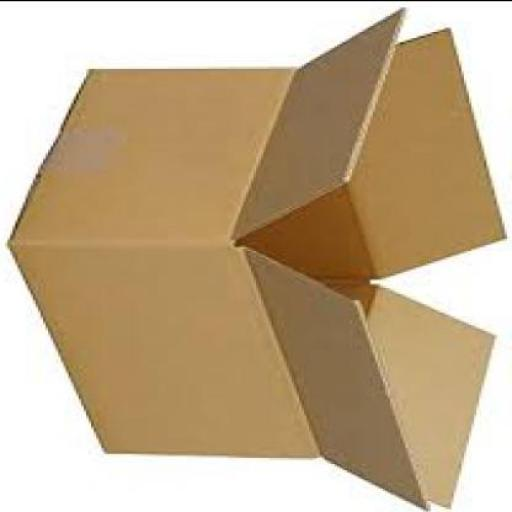cardboard: (12, 6, 512, 511)
